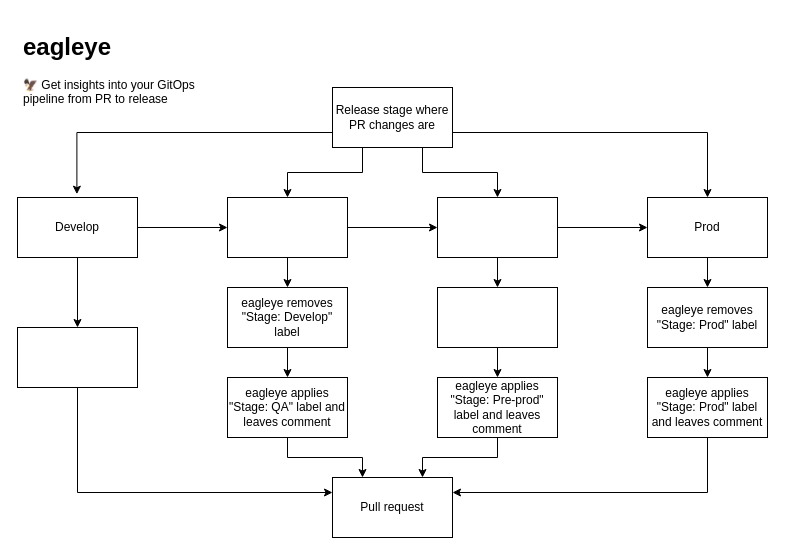
This 785x555 diagram has some shape labels left out. The box of each missing label's shape, as (x1, y1, x2, y2) in pixels:
eagleye applies "Stage: Develop" label and leaves comment: (16, 326, 138, 388)
eagleye removes "Stage: QA" label: (436, 286, 558, 348)
Pre-prod: (436, 196, 558, 258)
QA: (226, 196, 348, 258)
